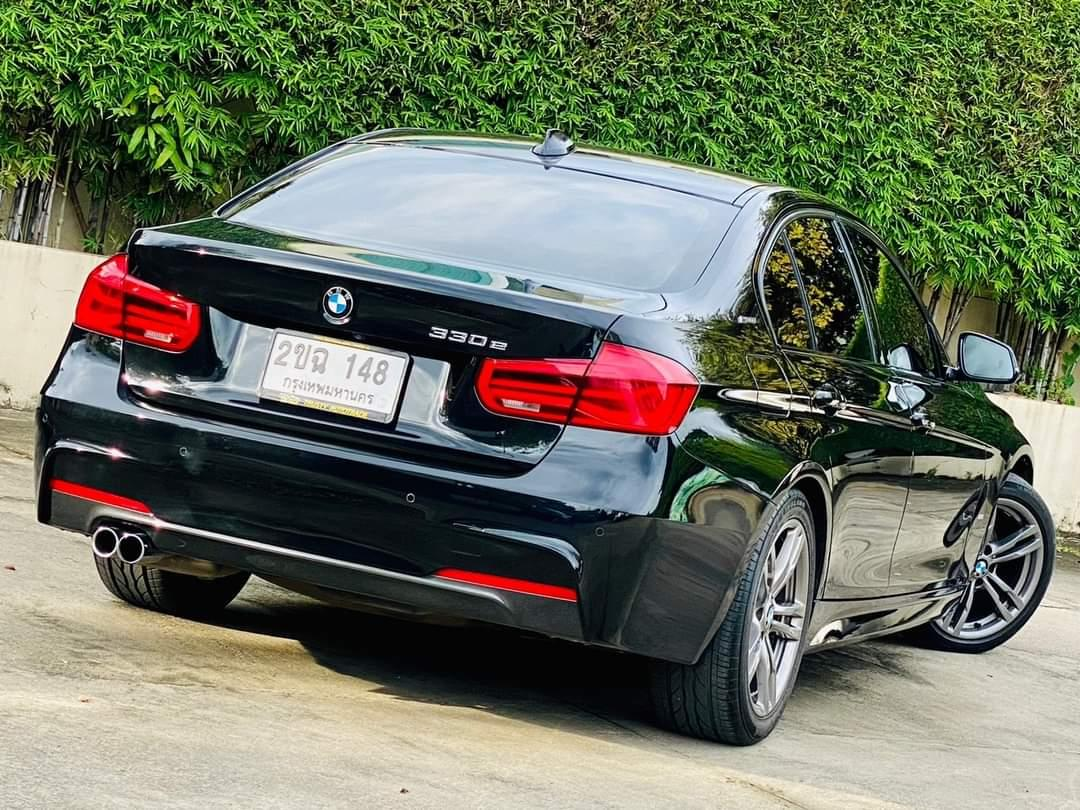license-plate: (253, 323, 415, 433)
